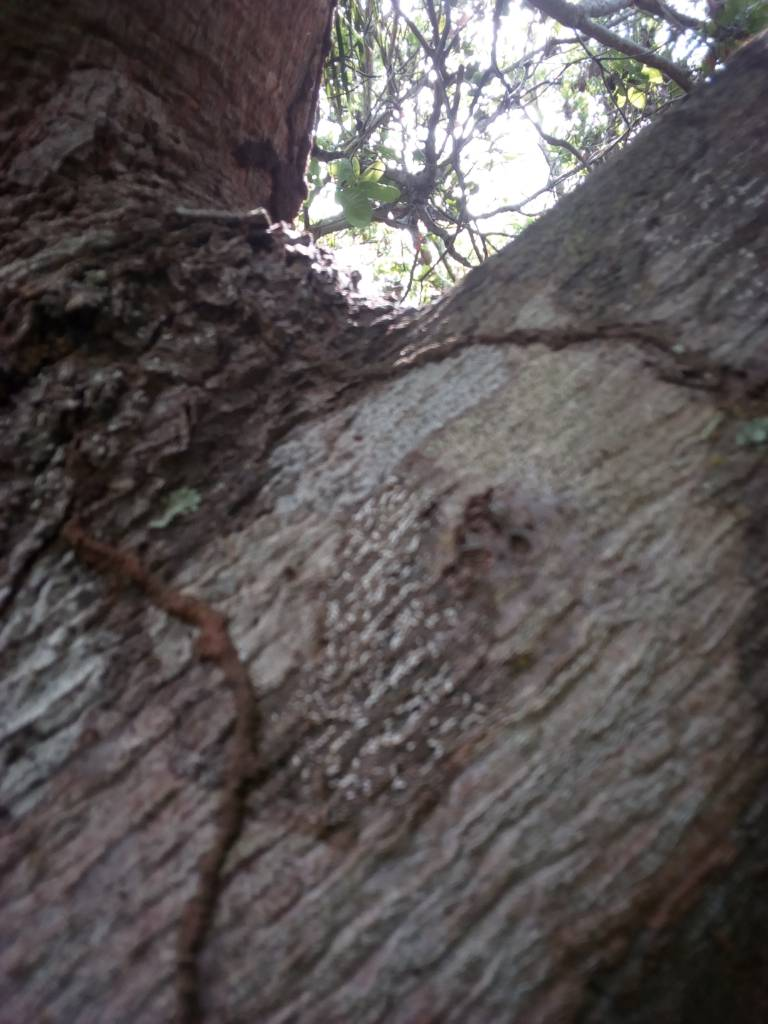Termites: (57, 513, 266, 1024)
